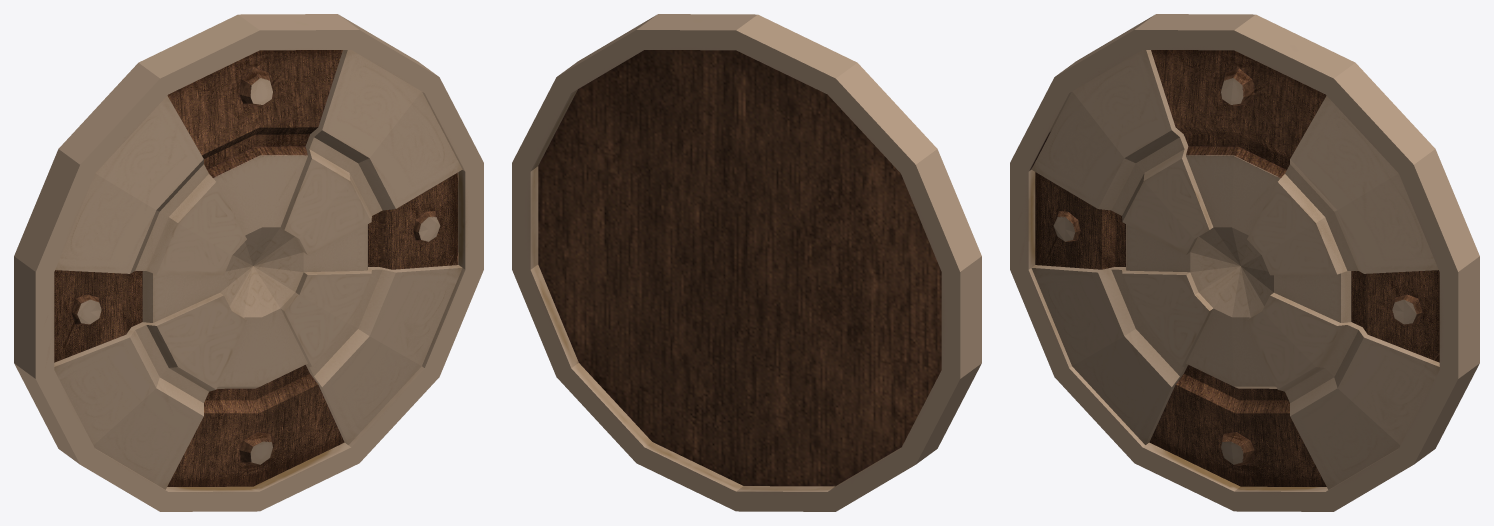
The model's file is Quad Round Shield.fbx.
3 renders of one model, left to right at view 1: azimuth 30°, elevation 25°; view 2: azimuth 150°, elevation 25°; view 3: azimuth 330°, elevation 25°, orthographic.
Visible parts, largest first — view 1: Quad_Round_Shield; view 2: Quad_Round_Shield; view 3: Quad_Round_Shield.
Part boxes in pixels (box(x1,y1,x2,y2)): Quad_Round_Shield: box(14, 14, 483, 511); Quad_Round_Shield: box(512, 14, 981, 511); Quad_Round_Shield: box(1010, 14, 1479, 511).
Bounding box in the file's own units: 140 × 144 × 14.96.
